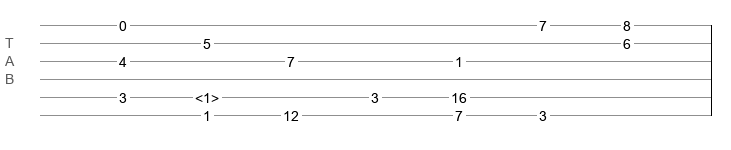0: (119, 18, 127, 28)
1: (203, 108, 211, 118), (455, 54, 463, 64)
12: (283, 108, 299, 118)
16: (451, 90, 467, 100)
3: (119, 90, 127, 100), (371, 90, 379, 100), (539, 108, 547, 118)
4: (119, 54, 127, 64)
5: (203, 36, 211, 46)
6: (623, 36, 631, 46)
7: (287, 54, 295, 64), (455, 108, 463, 118), (539, 18, 547, 28)
8: (623, 18, 631, 28)
harmonic: (195, 90, 219, 100)
